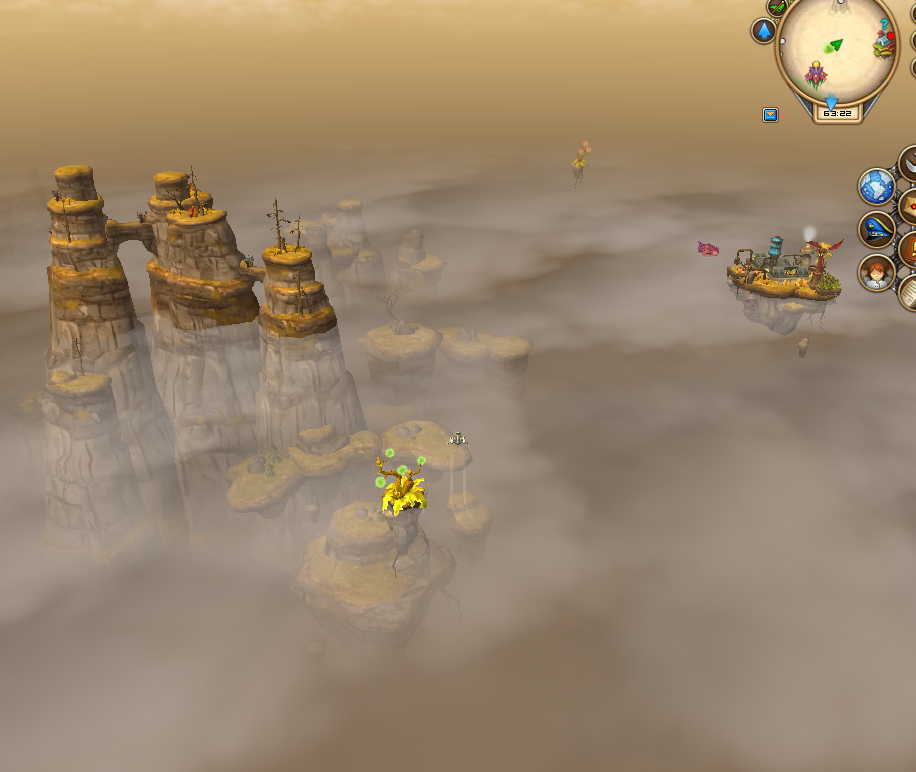dandelion-full: (370, 443, 431, 574), (569, 137, 593, 185)
